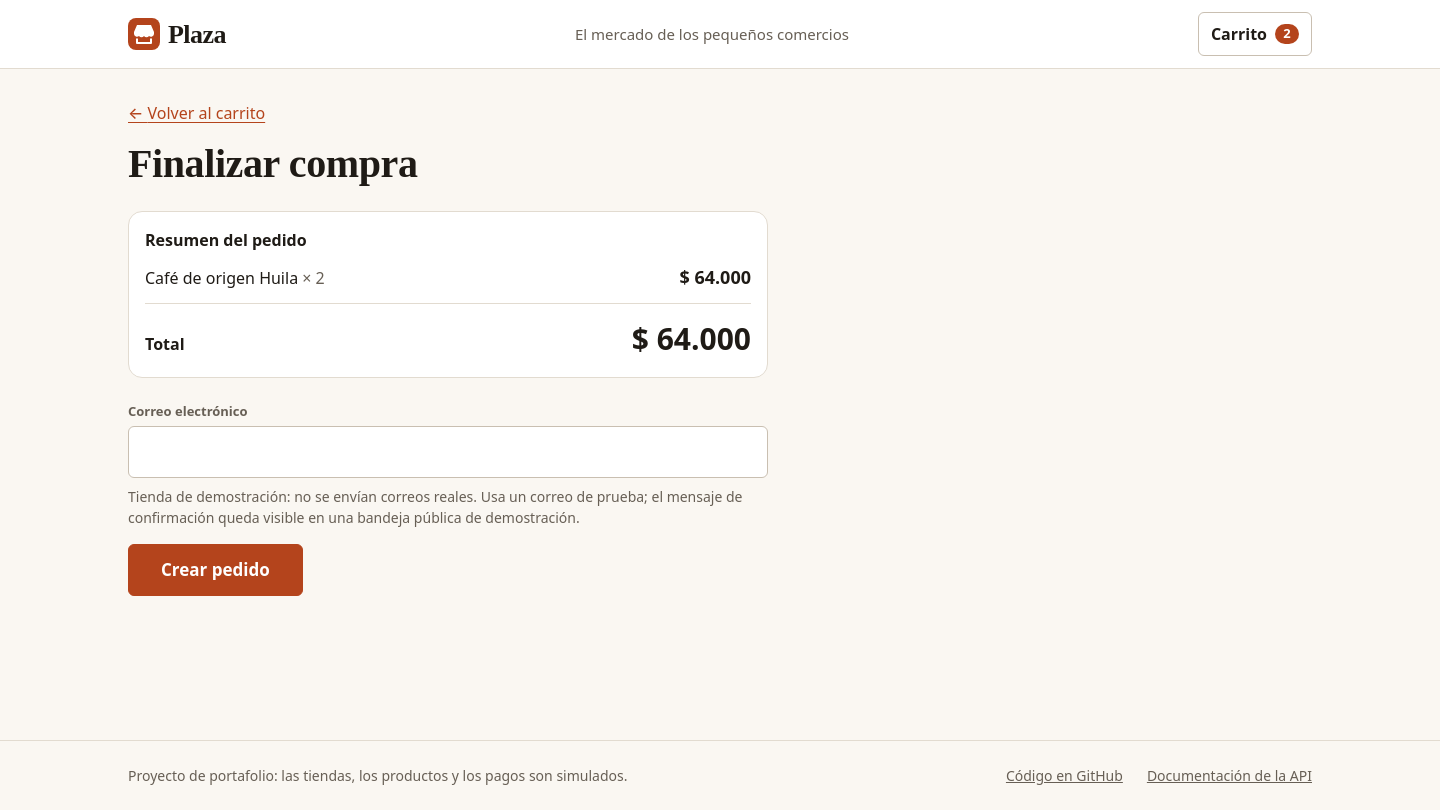
CheckoutPage › asks for the e-mail before sending anything
Click the button "Crear pedido" at (215, 570), box 128,544 -> 303,596
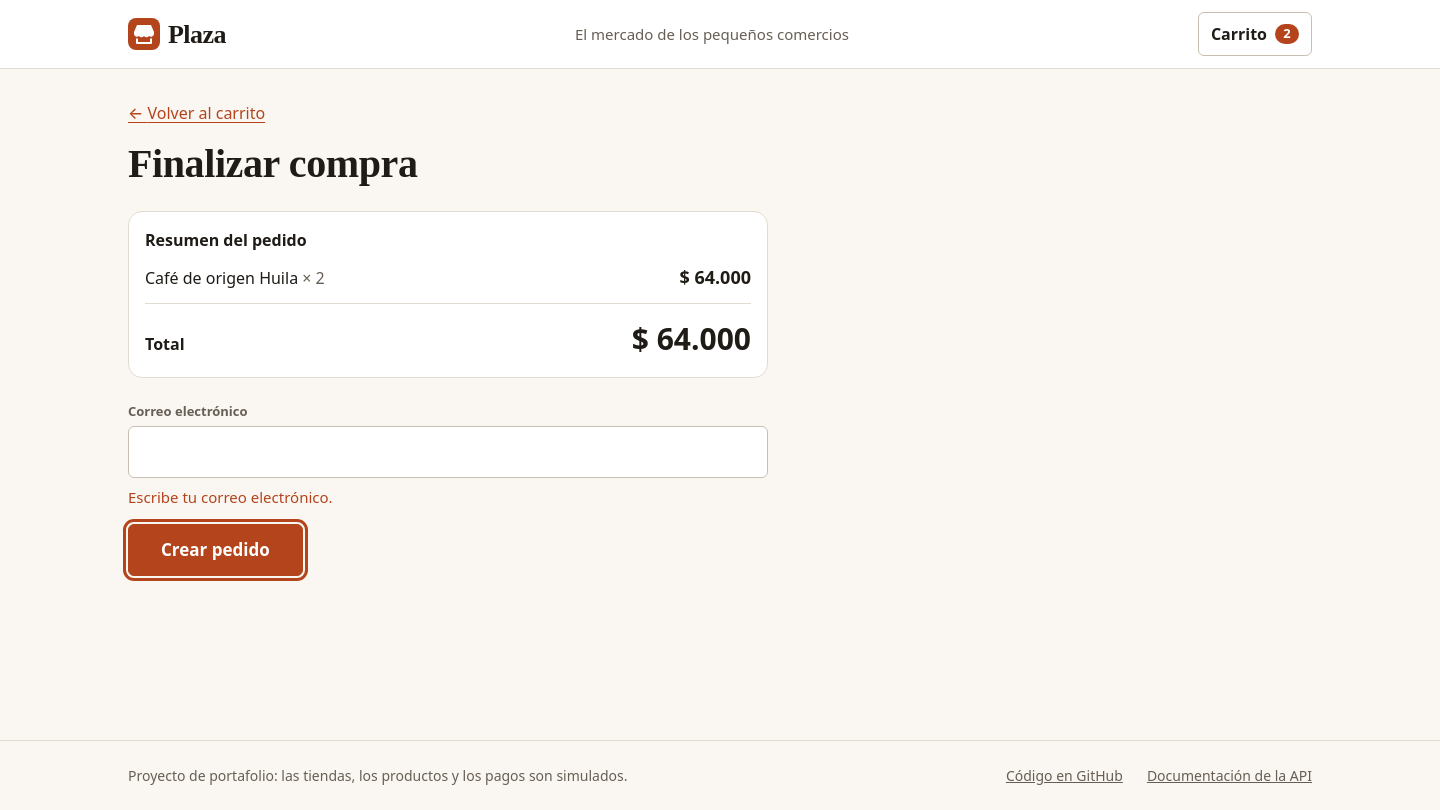
Result: the message reads "Escribe tu correo electrónico." at 128,486 -> 333,506
